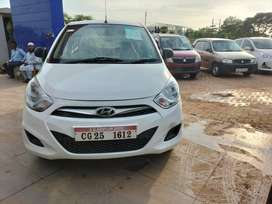CG251612: (73, 126, 136, 140)
